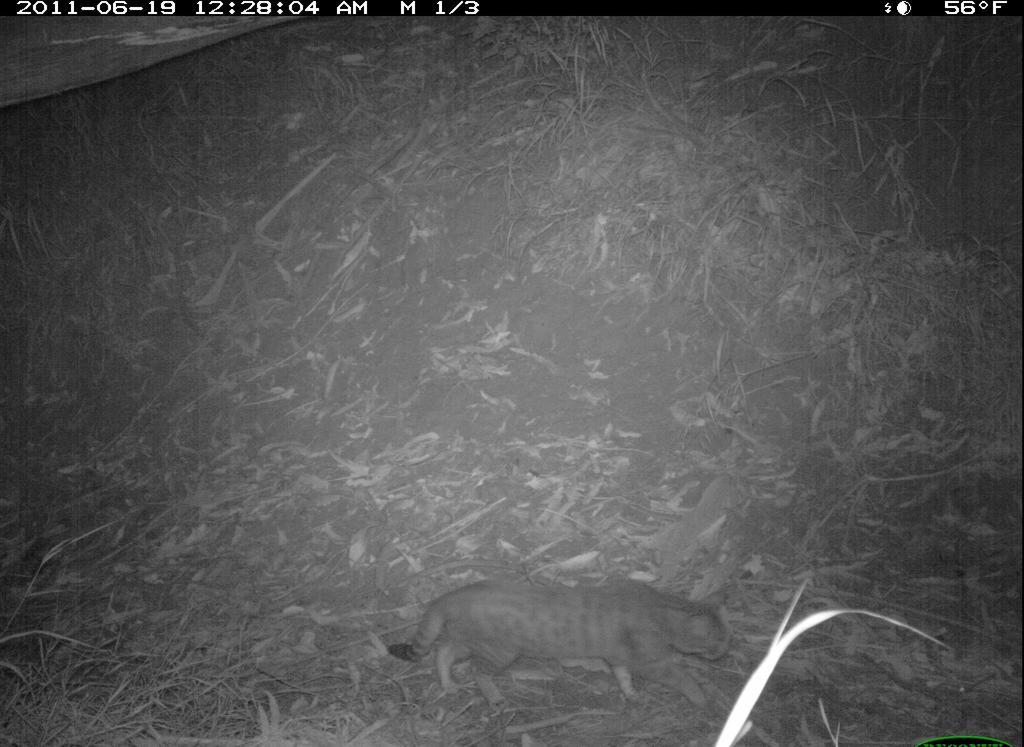cat: (376, 559, 744, 724)
